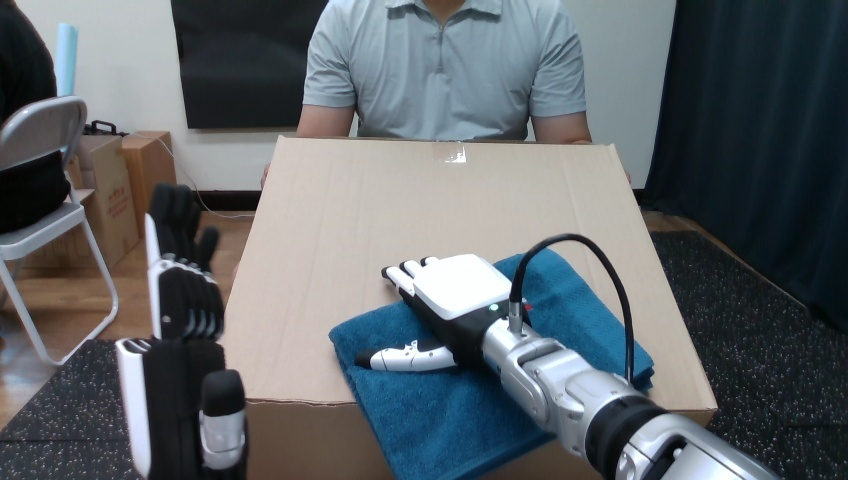left robot hand: (355, 234, 776, 479), (116, 183, 246, 478)
